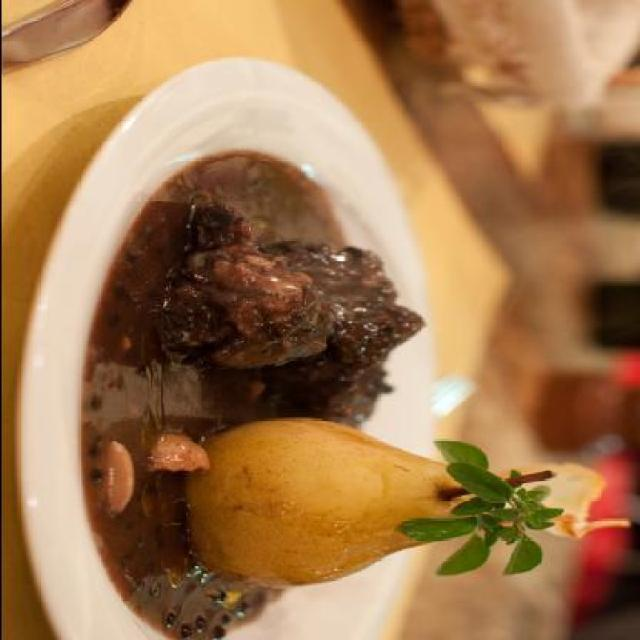Pear: (179, 427, 492, 593)
